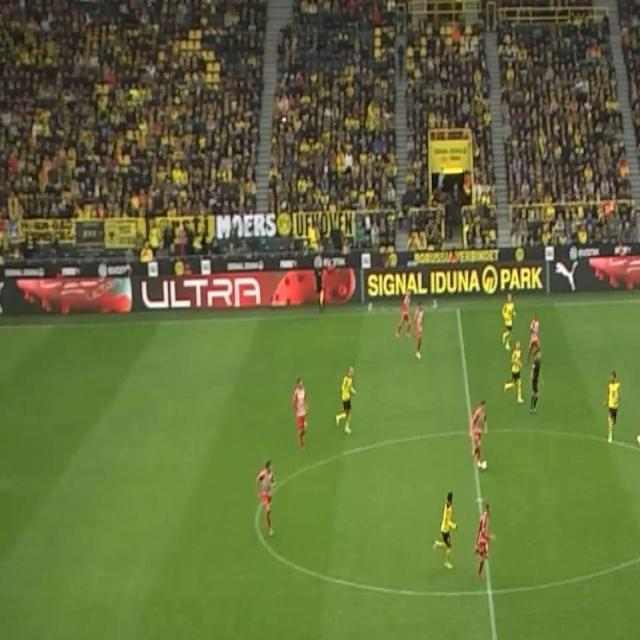ball: (481, 458, 488, 473)
